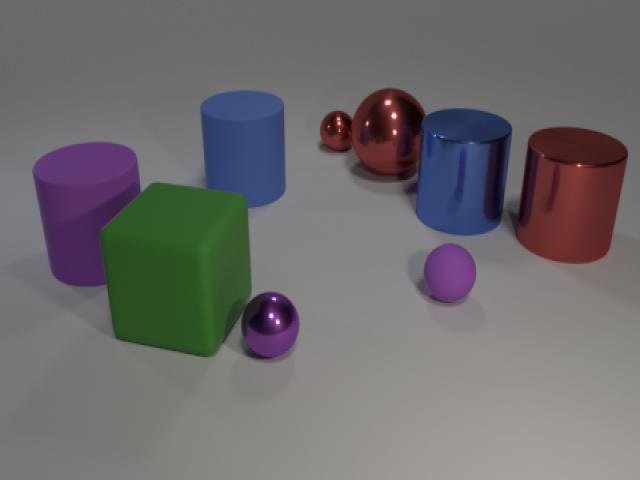cylinder: (514, 113, 631, 273), (31, 142, 141, 290), (415, 108, 513, 234), (199, 90, 289, 210)
round ball: (350, 88, 425, 177), (241, 292, 303, 366), (420, 240, 480, 306), (317, 110, 355, 154)
